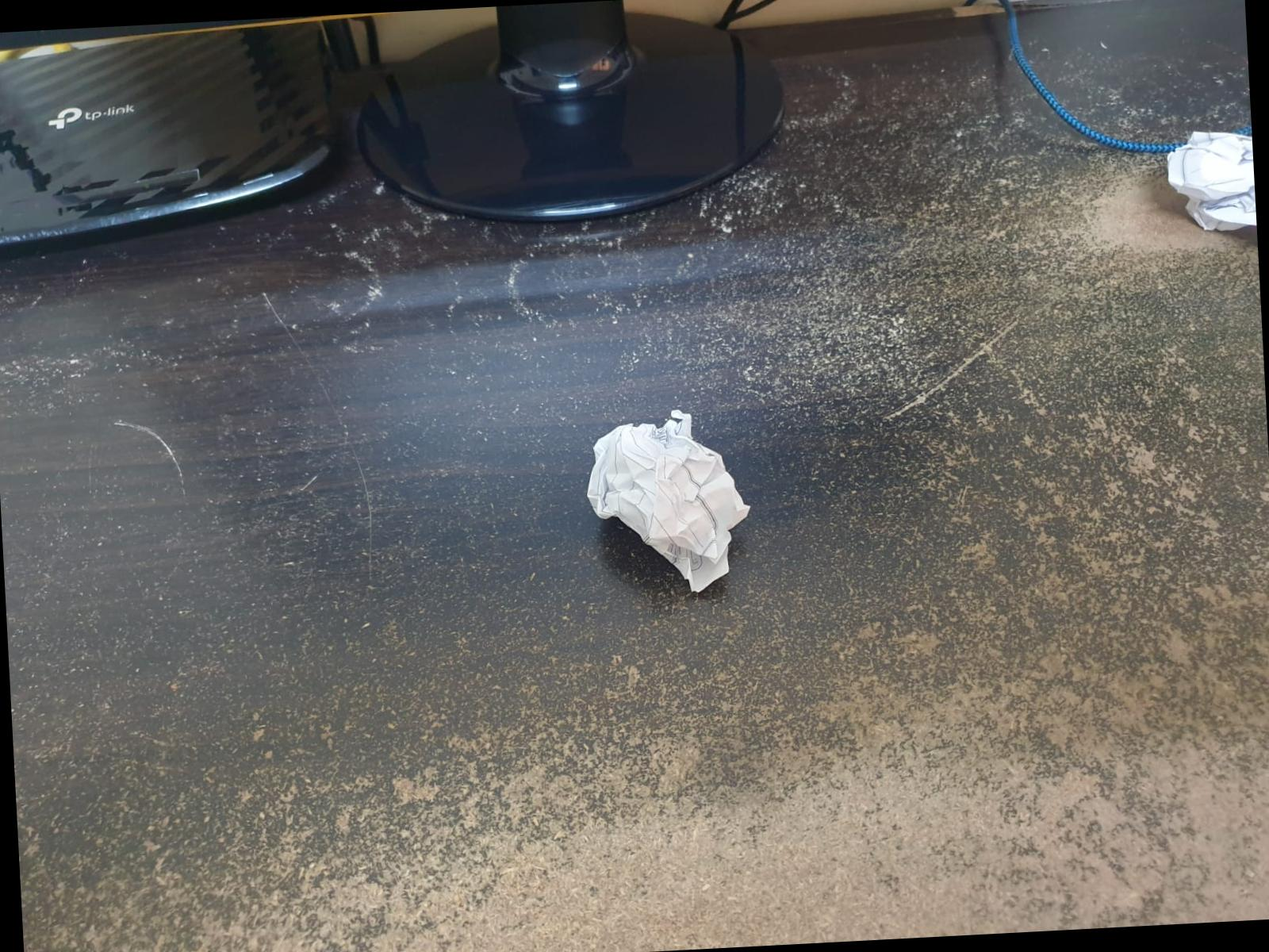Kertas: (590, 419, 747, 595)
